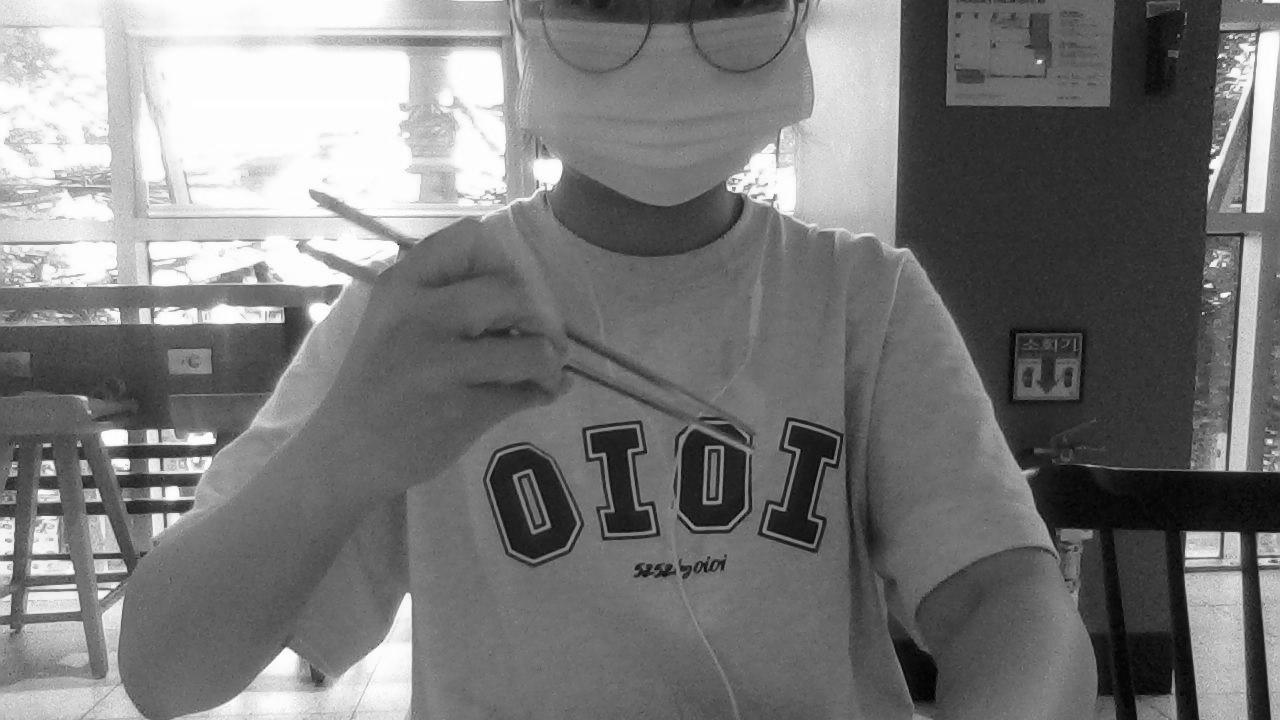chopstick: (306, 190, 758, 437), (295, 242, 755, 458)
hand: (330, 215, 573, 490)
